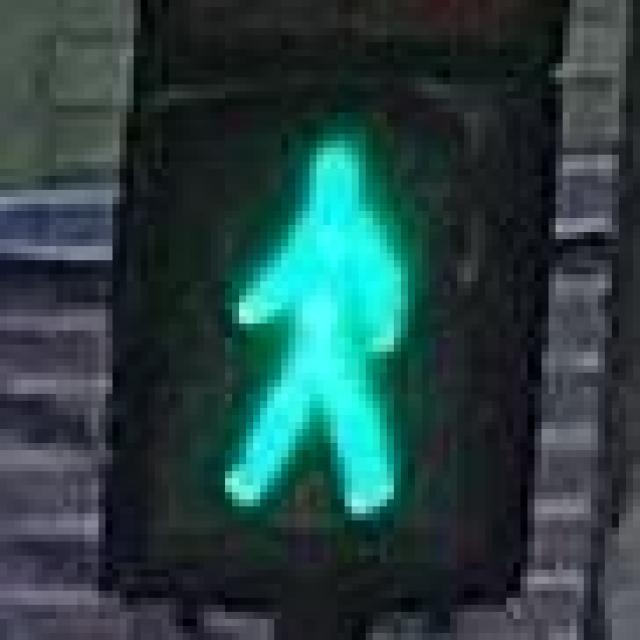geen-crossing: (176, 99, 450, 528)
